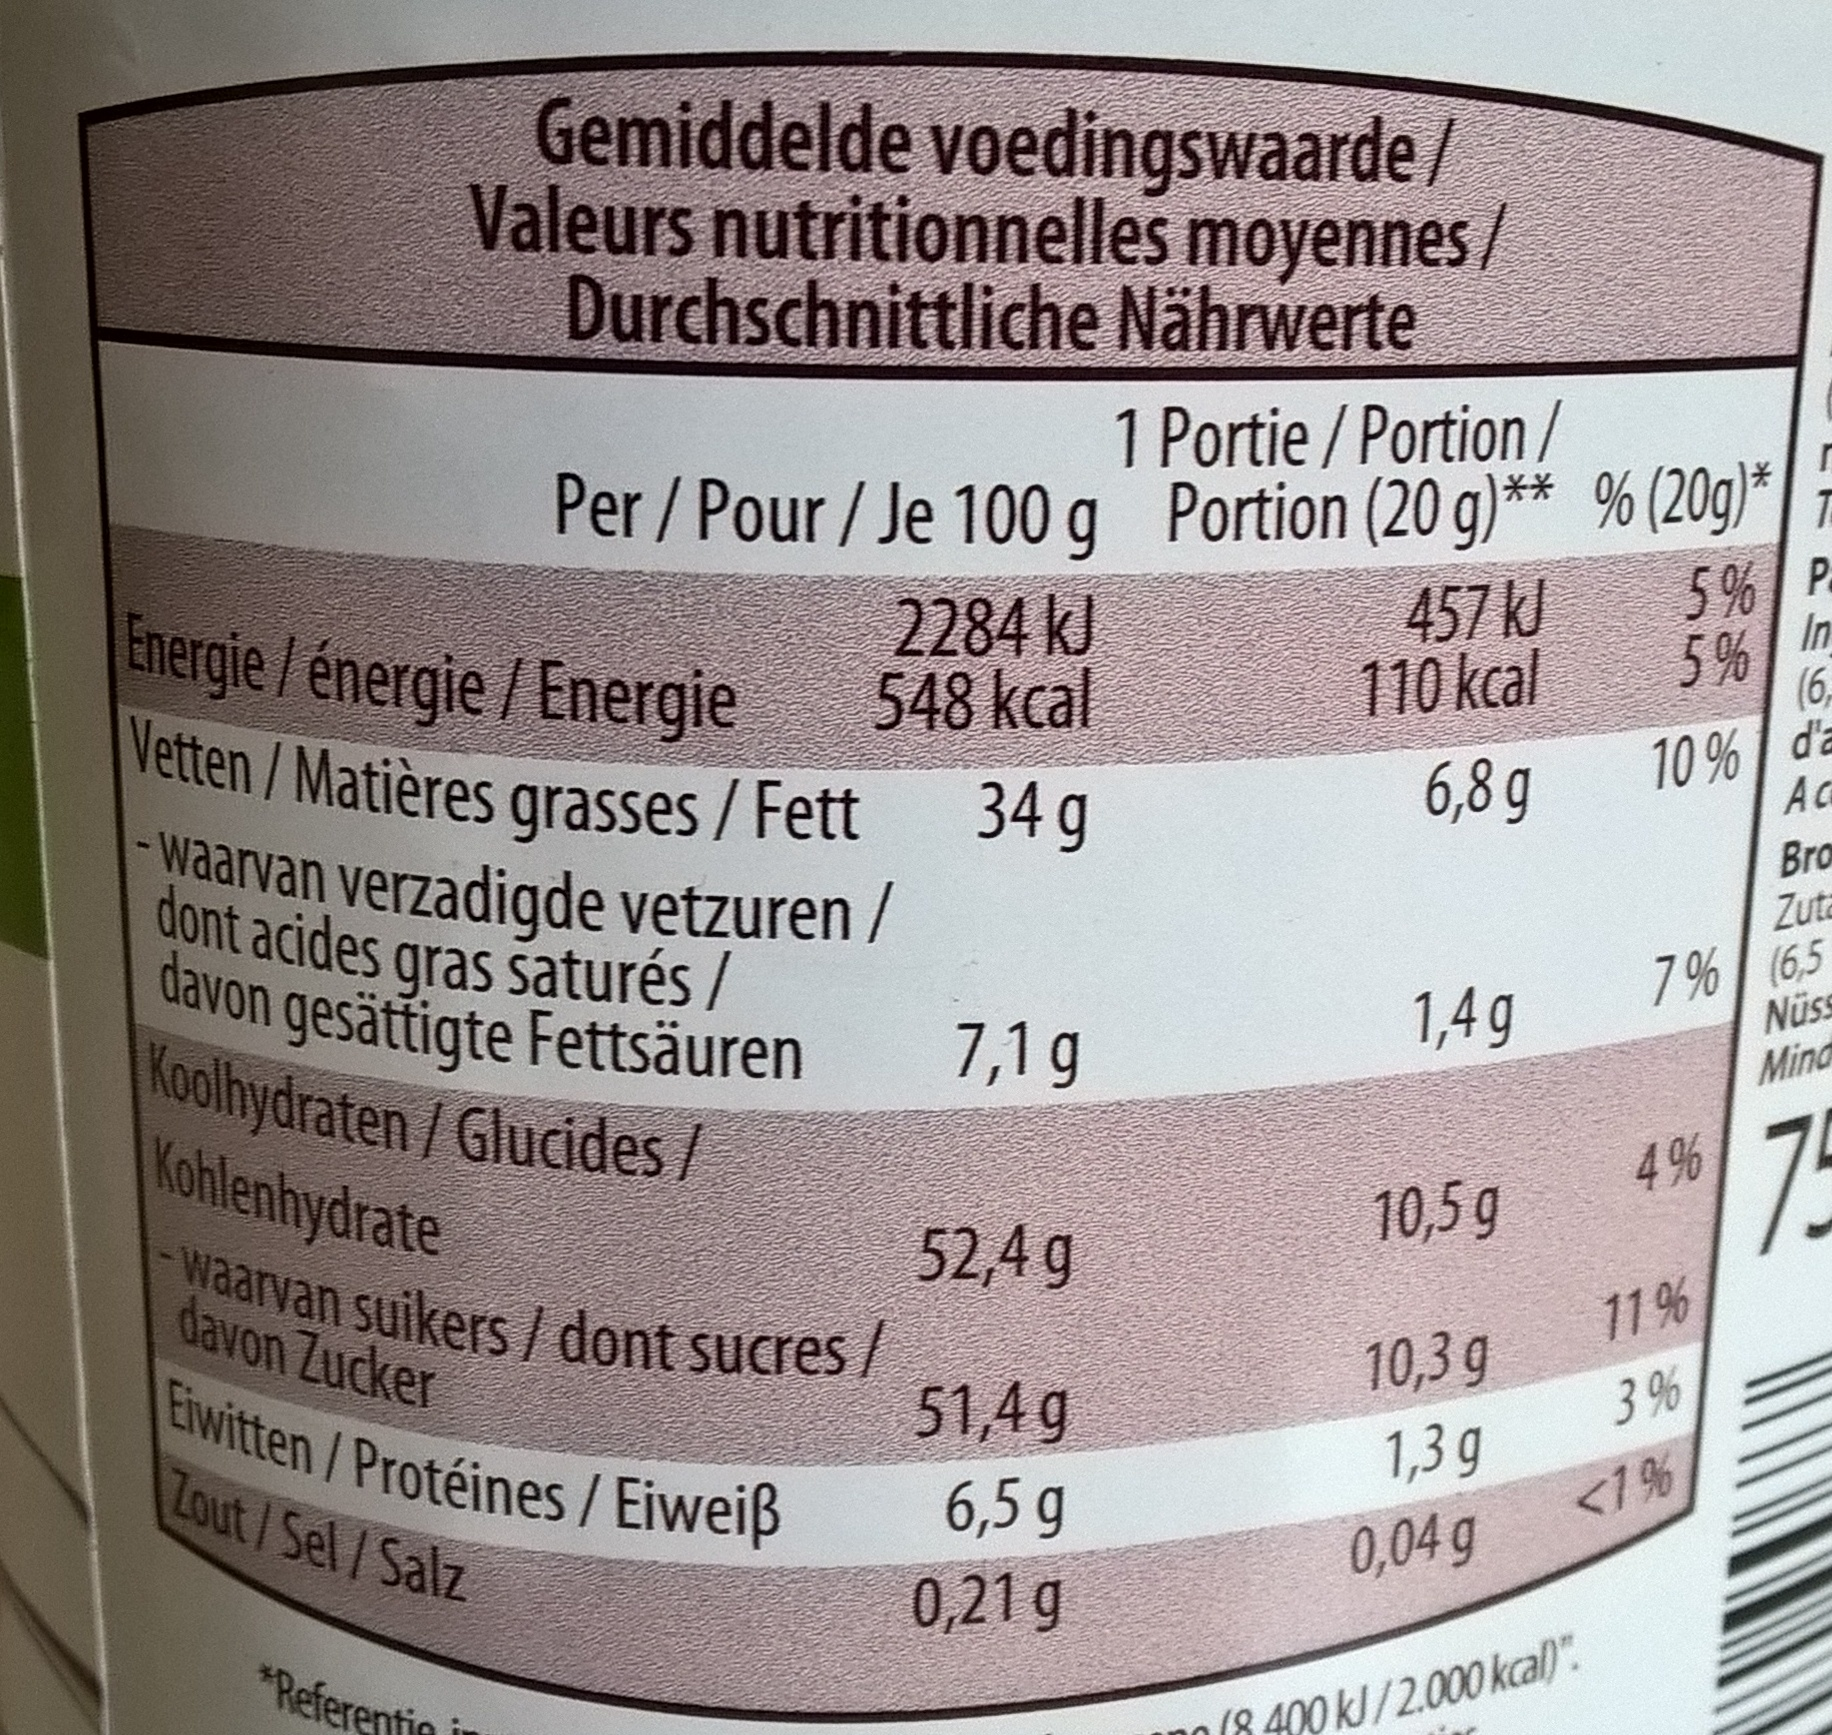column: (129, 615, 862, 1715), (1118, 324, 1557, 1719), (1574, 341, 1768, 1719), (883, 592, 1094, 1636)
table: (68, 52, 1825, 1719)
